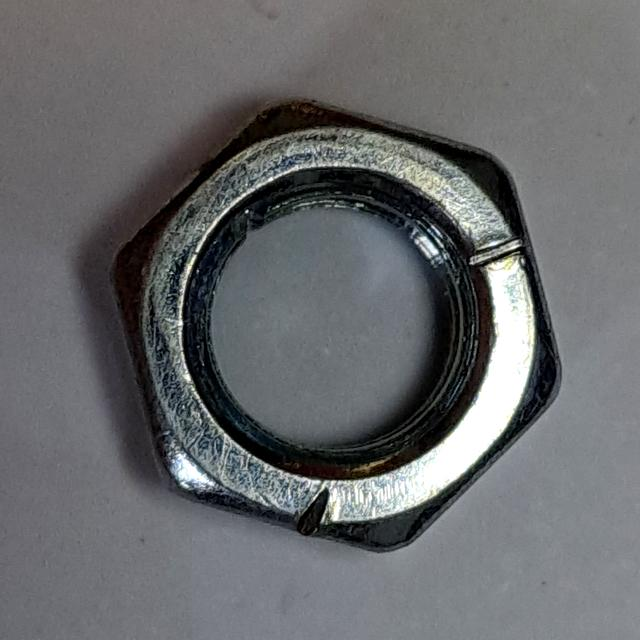Scratches: (98, 92, 578, 569)
